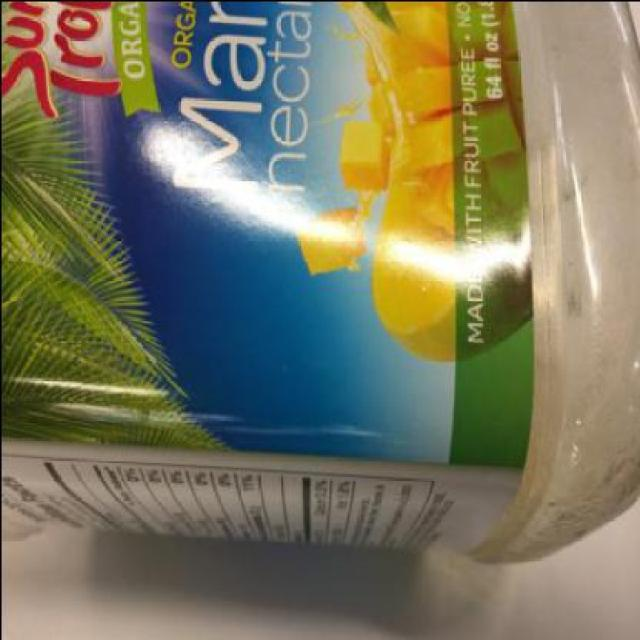PLASTIC: (1, 2, 638, 563)
